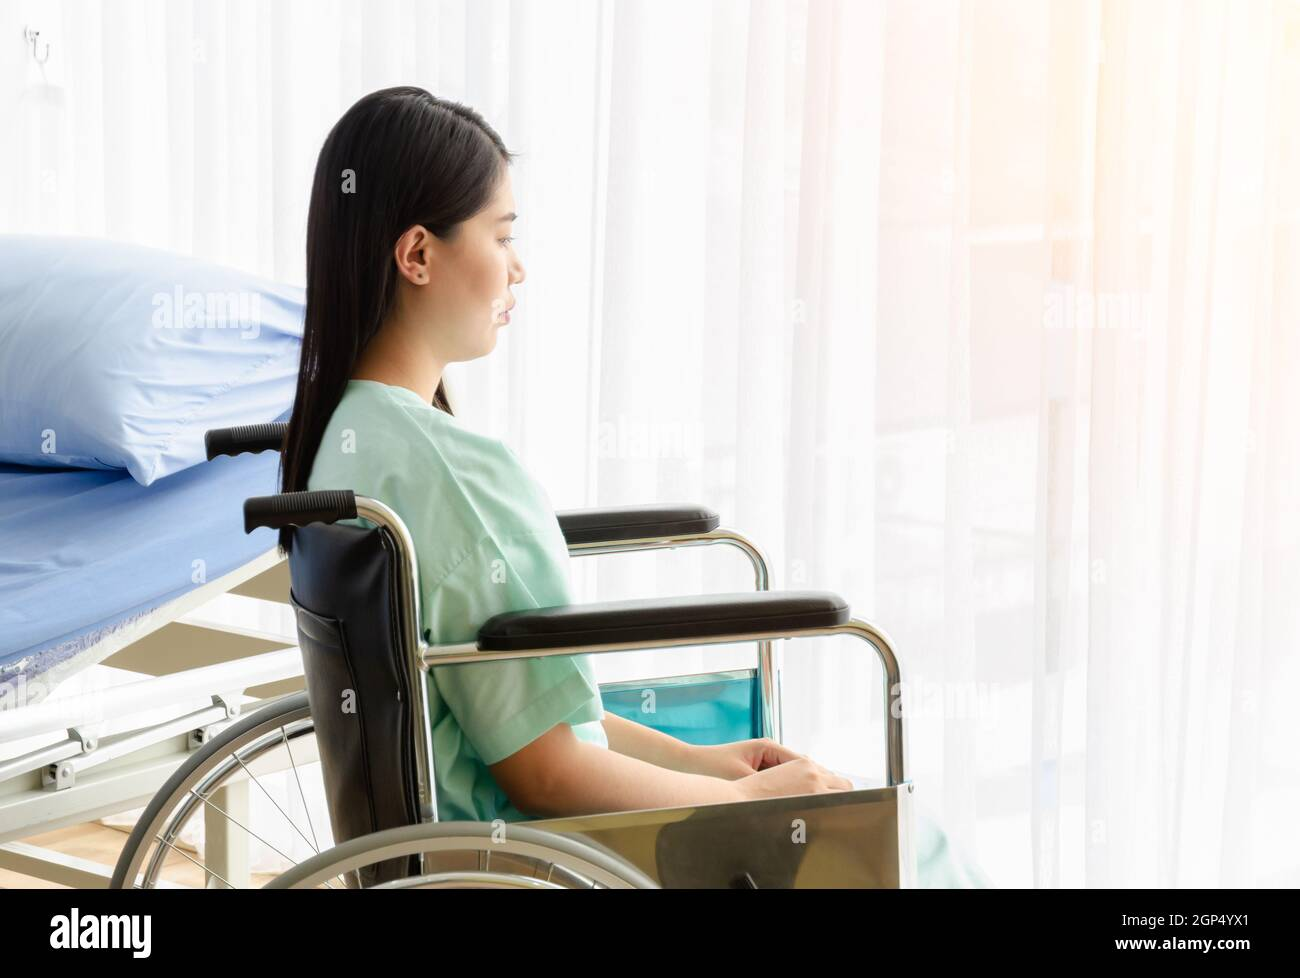hospital_bed: (4, 215, 413, 886)
patient: (301, 79, 844, 820)
wheel_chair: (87, 416, 919, 888)
